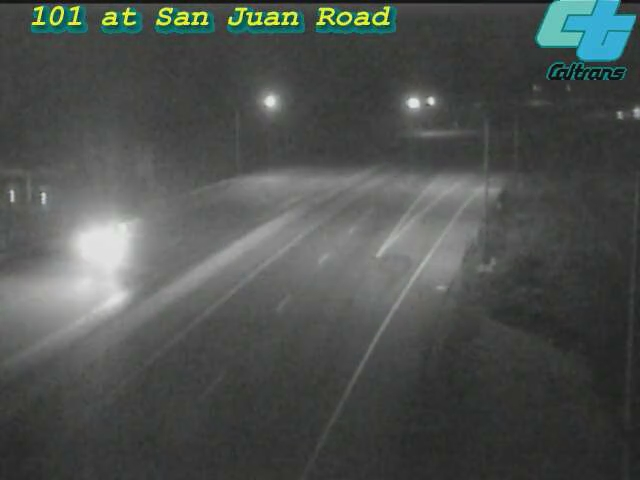vehicle: (69, 205, 149, 285), (610, 87, 640, 137)
